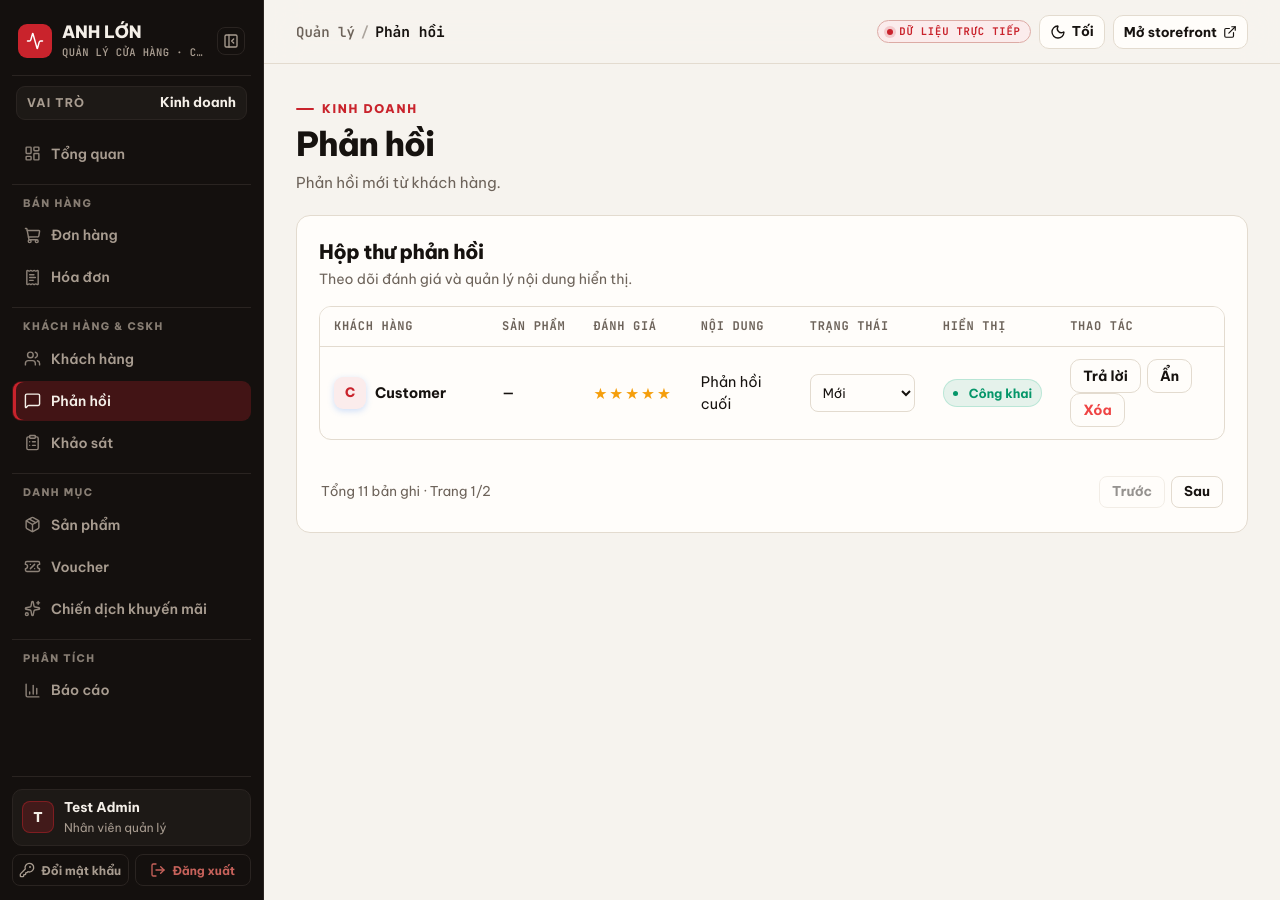
Scenario: manager navigation › confirms feedback deletion, retains errors and returns from an emptied last page
Click the button "Sau" at (1197,492), box [1171,476,1223,508]
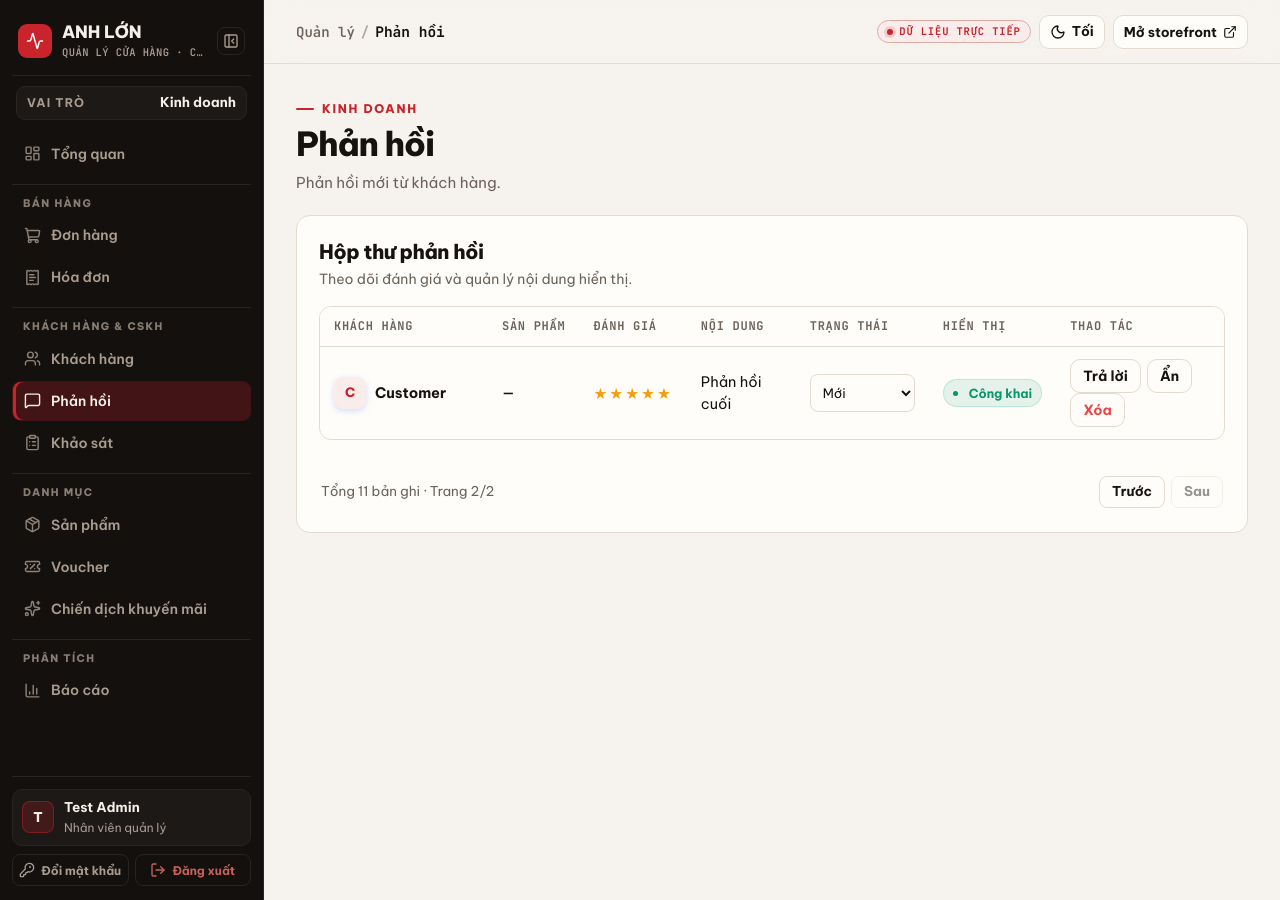
Click the button "Xóa" at (1097,410), box [1070,393,1125,427]
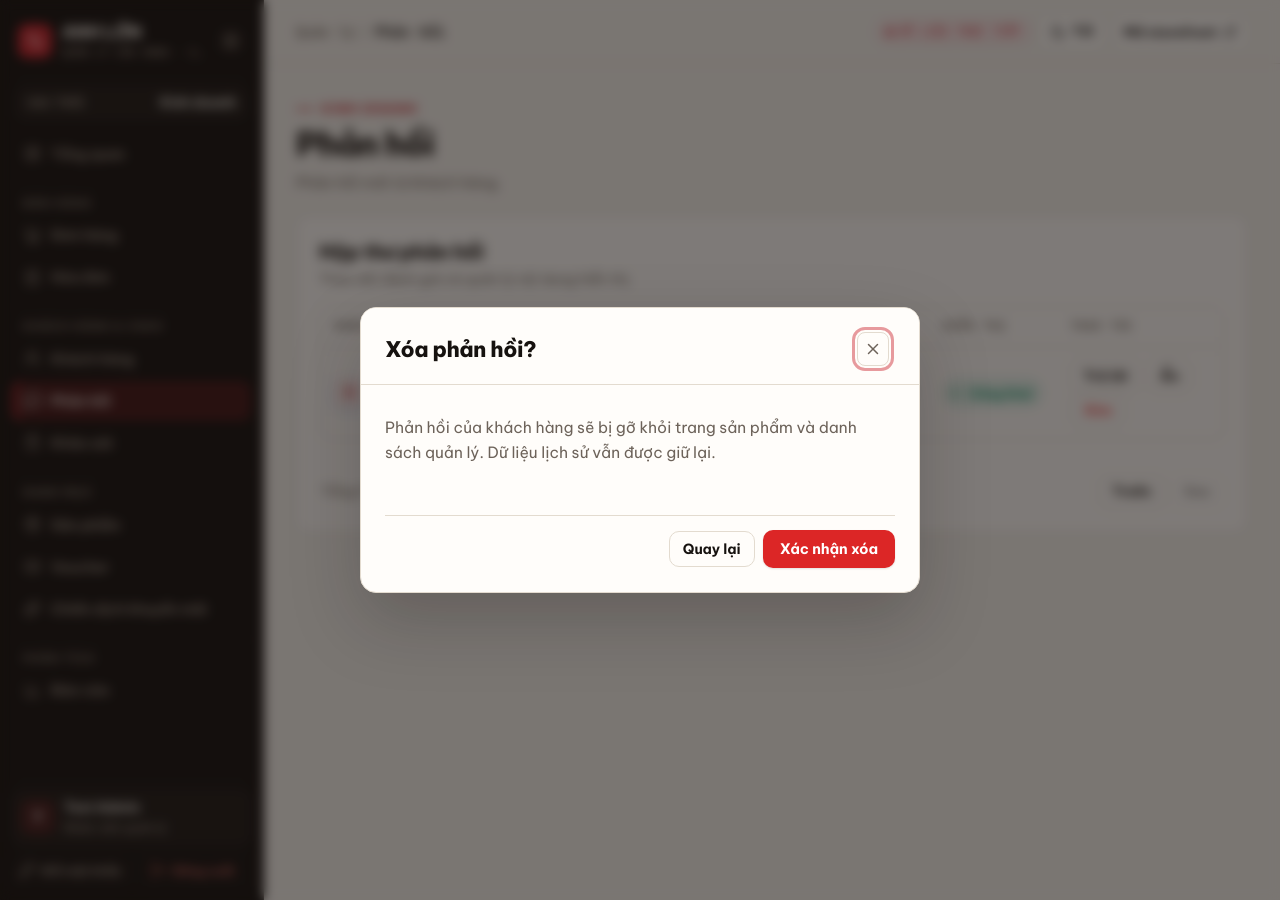
Click the button "Xác nhận xóa" at (829,549), box [763,530,895,568]
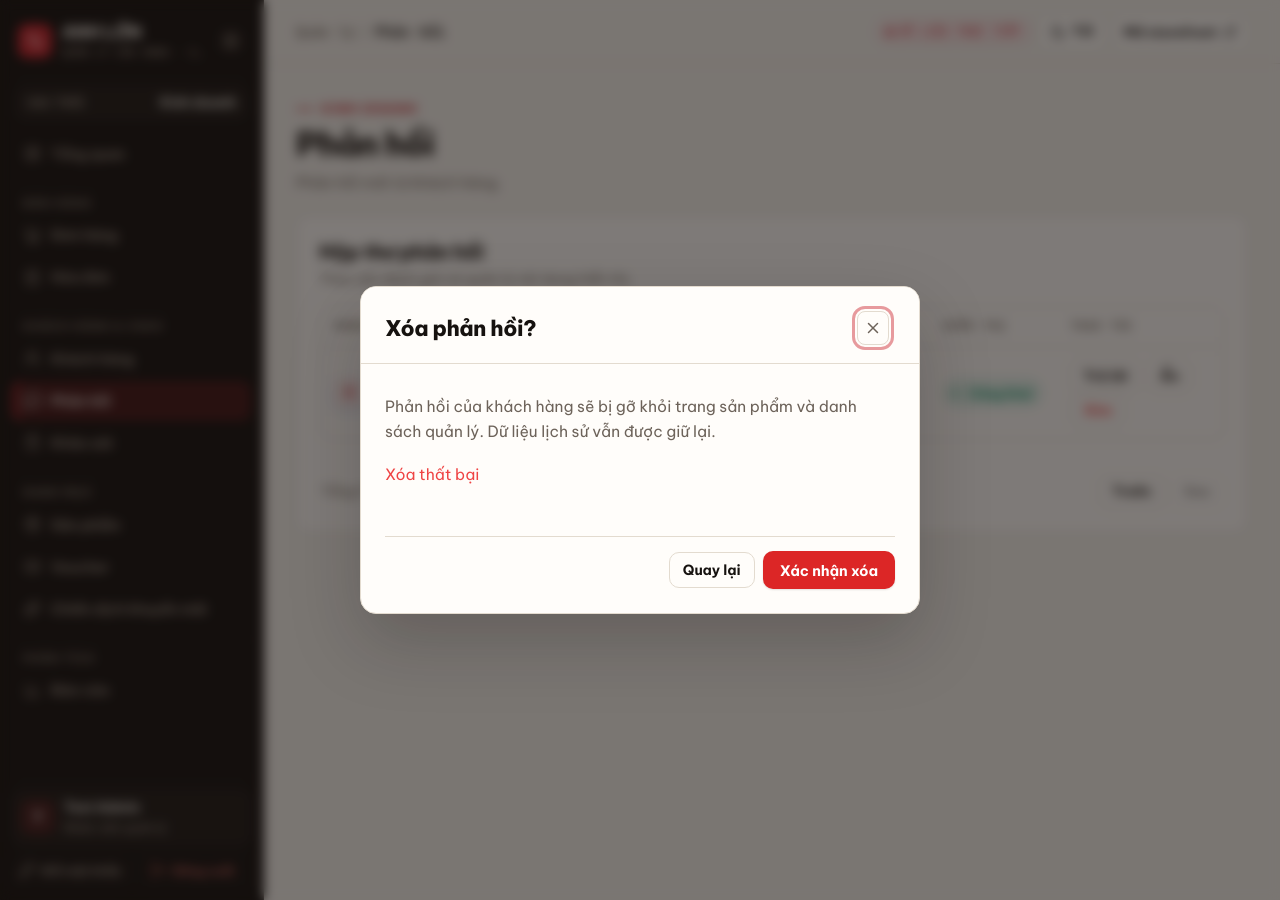
Expected: the dialog is shown, [360,286,920,614]
Expected: the message "Xóa thất bại" is shown, [385,464,479,484]
Click the button "Xác nhận xóa" at (829,570), box [763,551,895,589]
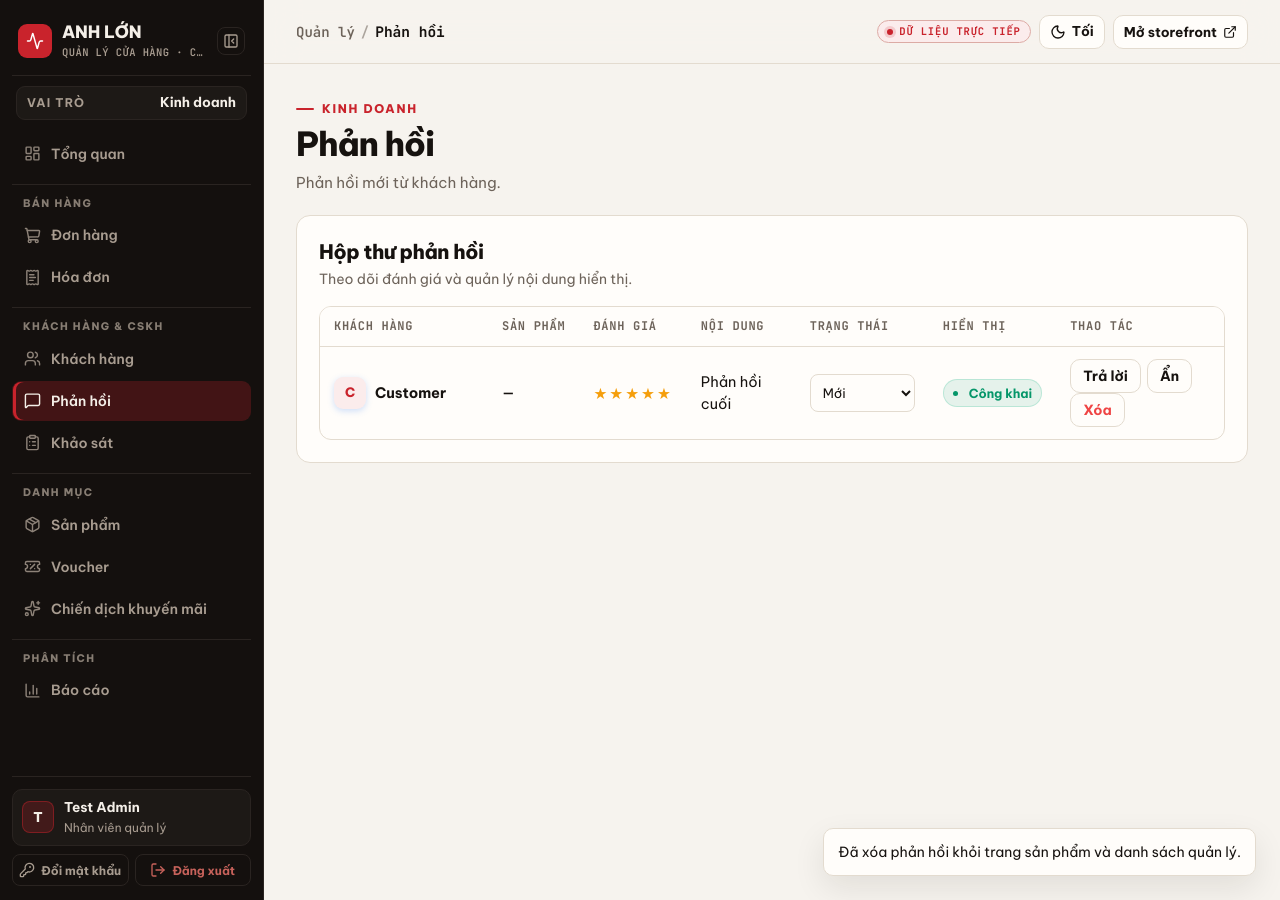
Expected: the dialog is gone
